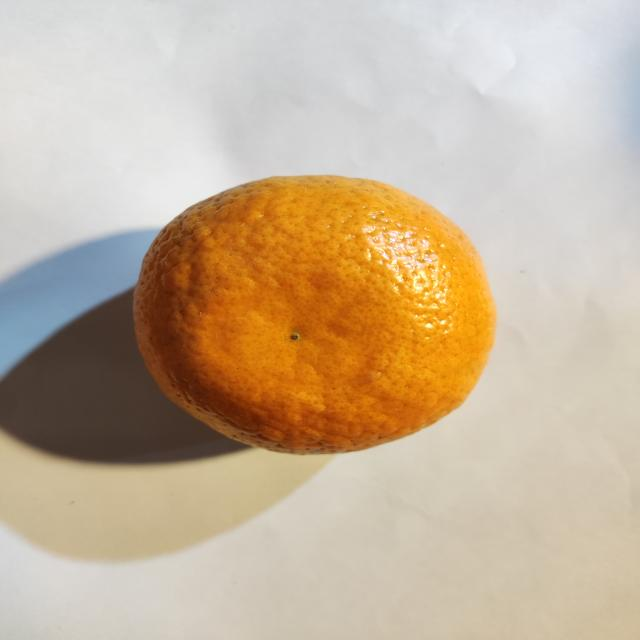orange: (135, 176, 495, 453)
